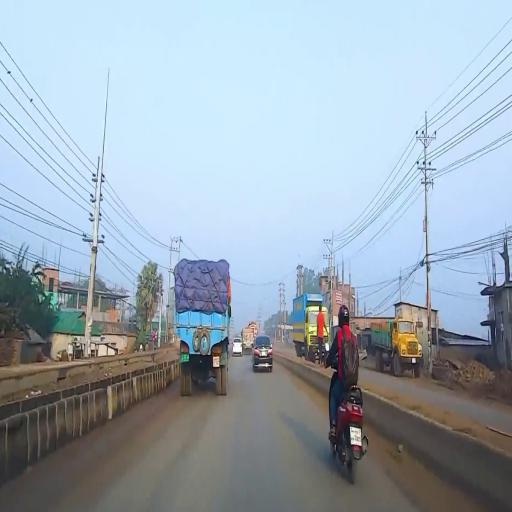car: (253, 337, 274, 372), (233, 336, 243, 360)
motorbike: (328, 366, 375, 487)
truck: (174, 255, 231, 396), (371, 319, 425, 377), (292, 298, 333, 360), (244, 327, 255, 352)
